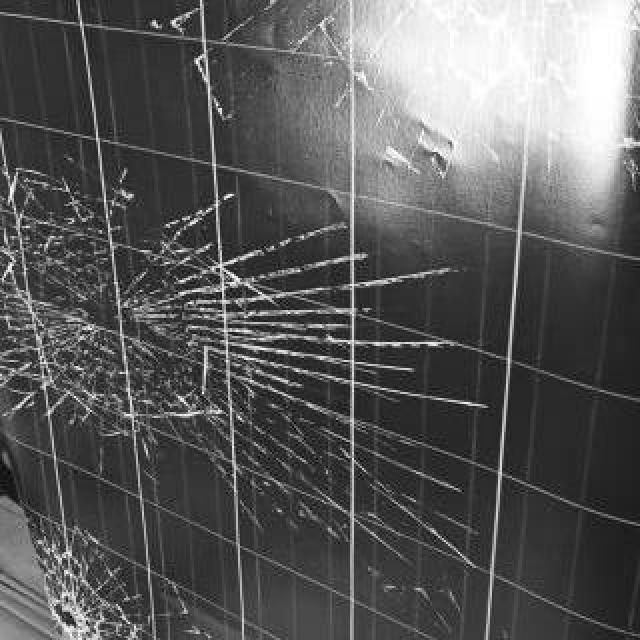Physical-damage: (65, 245, 409, 519), (28, 257, 216, 439), (37, 576, 151, 633)
